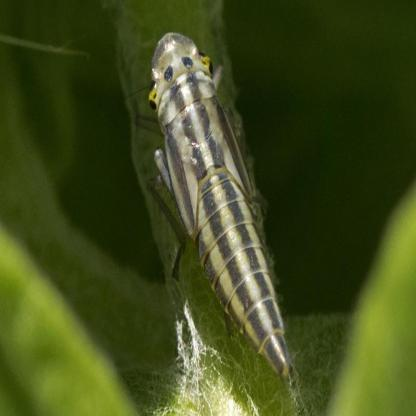Green-Leafhopper: (138, 31, 296, 380)
